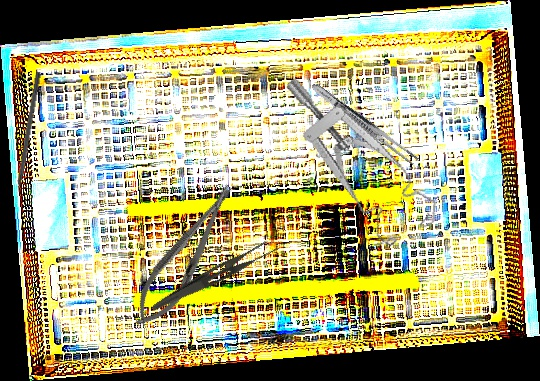Dressing Forceps: (150, 231, 281, 325), (308, 80, 421, 167)
Needle Holder: (122, 175, 249, 337)
Pusher: (10, 70, 42, 211)
Speculum: (283, 48, 445, 263)
